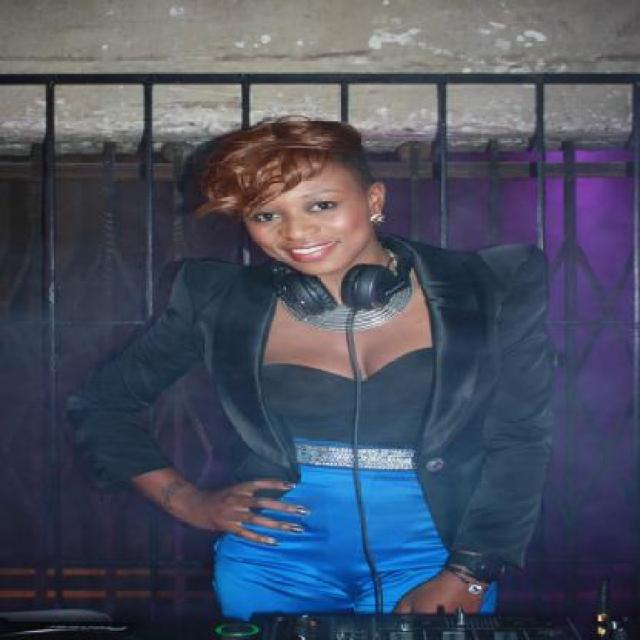earphone: (237, 230, 428, 330)
